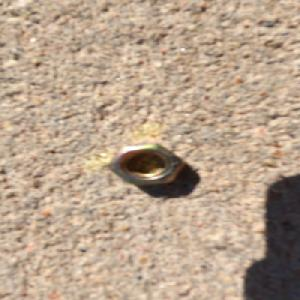Nut: (106, 141, 188, 189)
